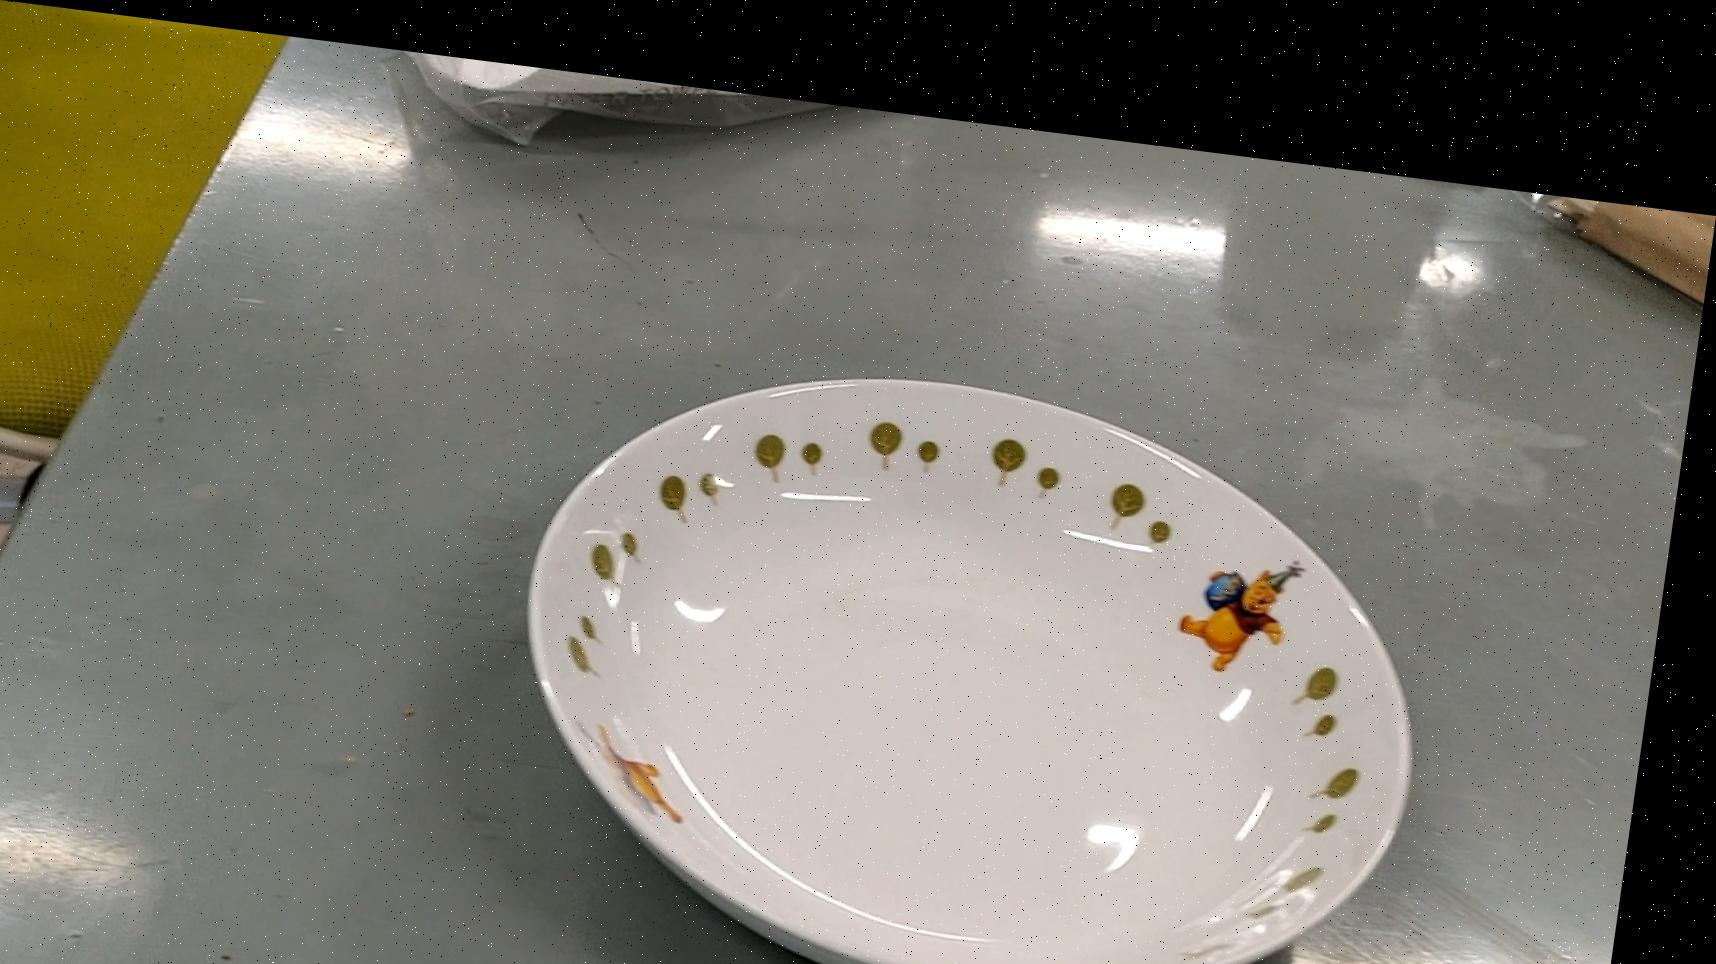plate: (509, 319, 1466, 964)
